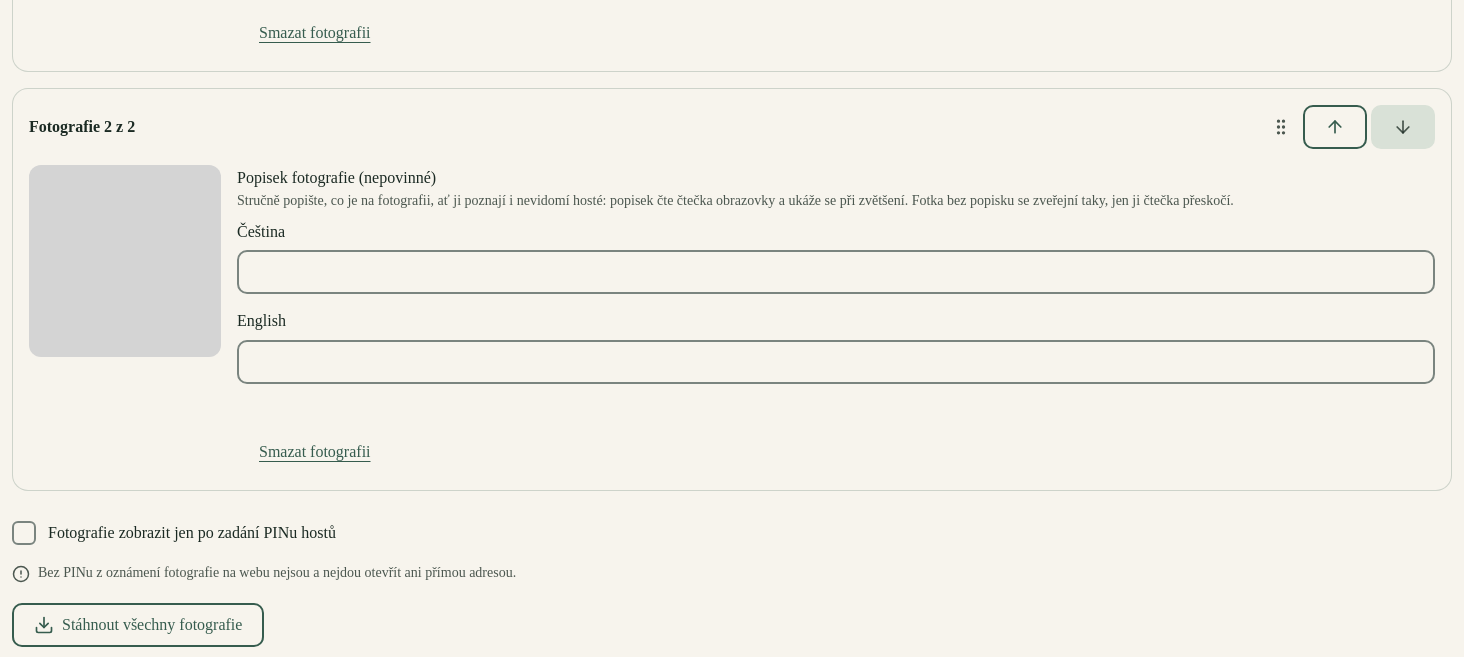
PhotosPanel › smazání se potvrzuje druhým krokem, Zrušit nic nesmaže; po smazání se oznámí a zmizí
(page scrolled)
Step 1. Click the button with aria-label "Smazat fotografii 2" → [315, 452], box [237,430,392,474]
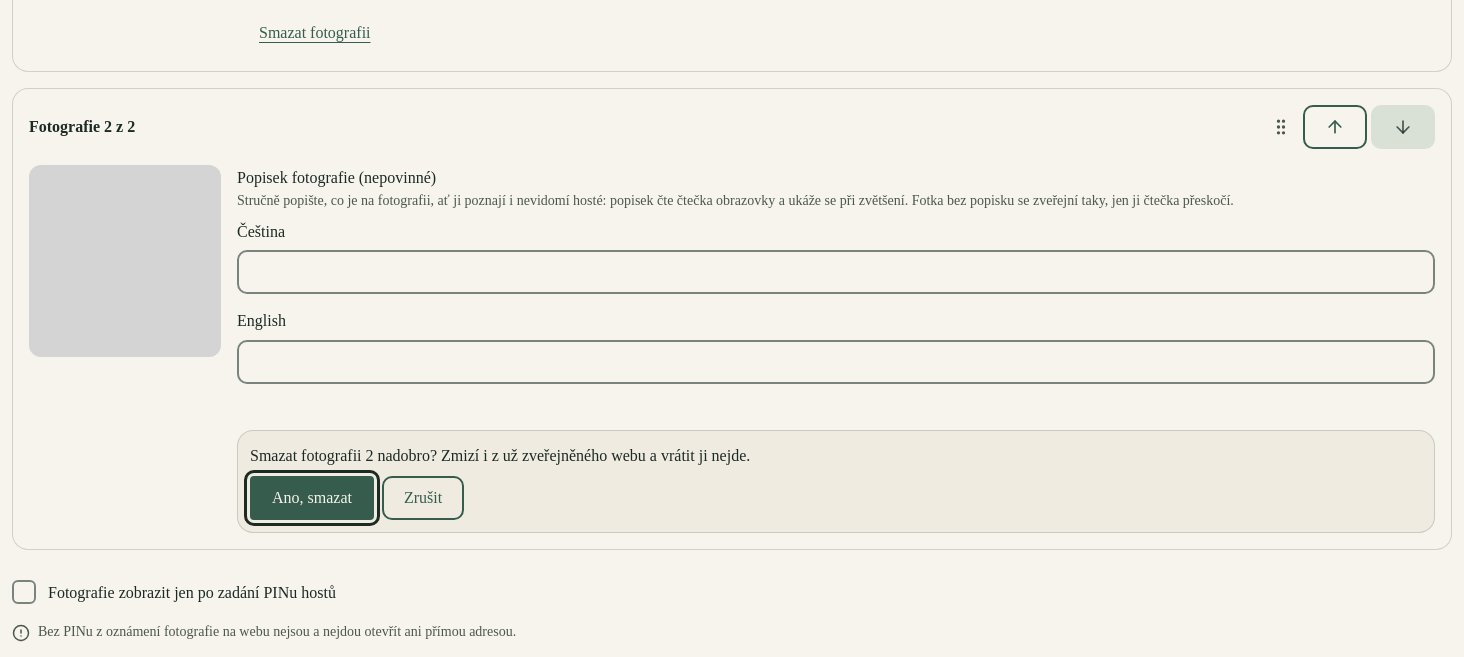
Result: the element "Smazat fotografii 2 nadobro" is shown at [237,430,1435,533]
Result: the text "Zmizí i z už zveřejněného webu" is shown at [250,447,750,464]
Step 2. Click the button "Zrušit" → [423, 498], box [382,476,464,520]
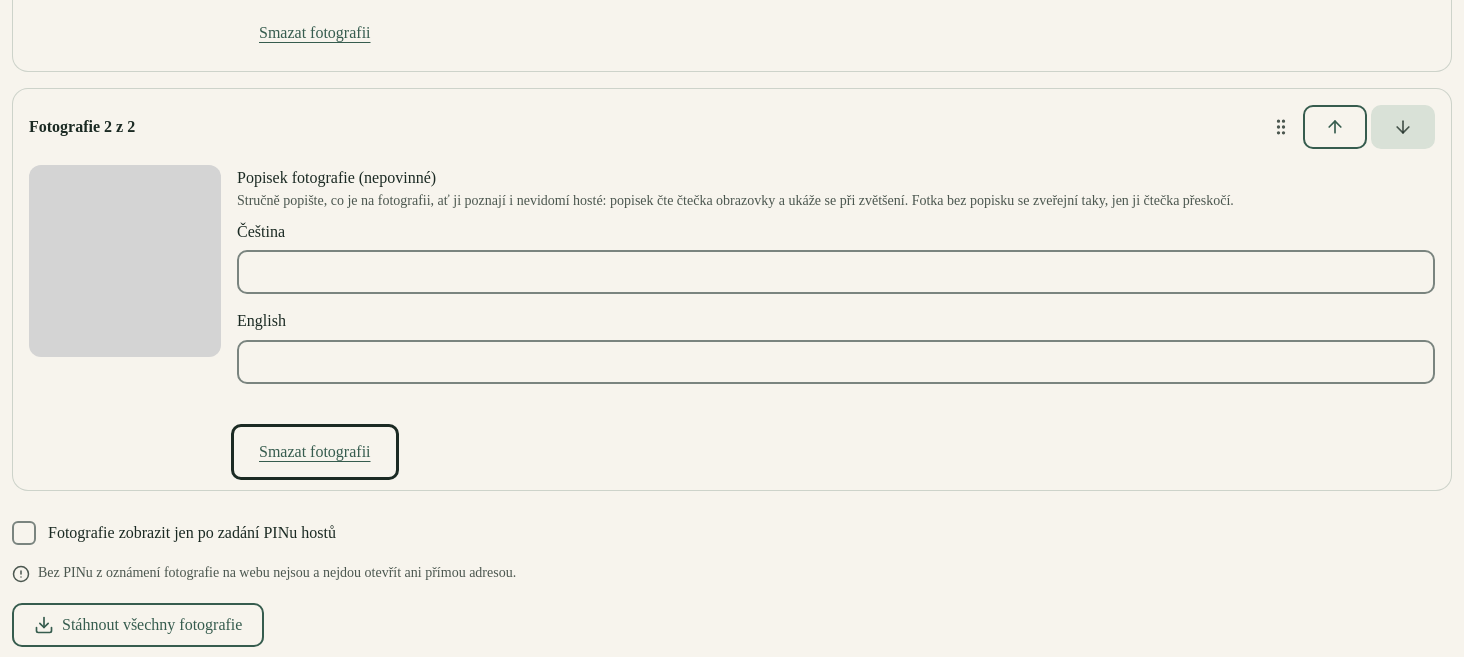
Step 3. Click the button with aria-label "Smazat fotografii 2" → [315, 452], box [237,430,392,474]
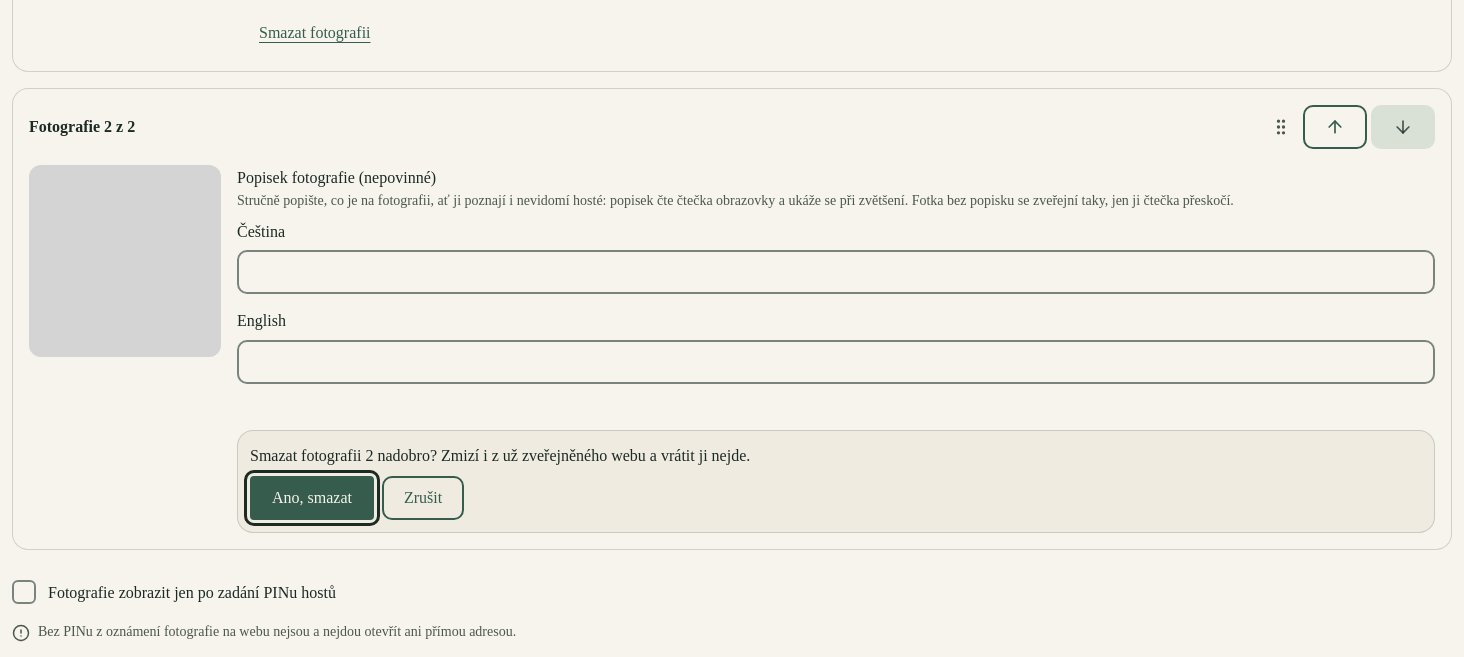
Step 4. Click the button "Ano, smazat" → [312, 498], box [250,476,374,520]
(page scrolled)
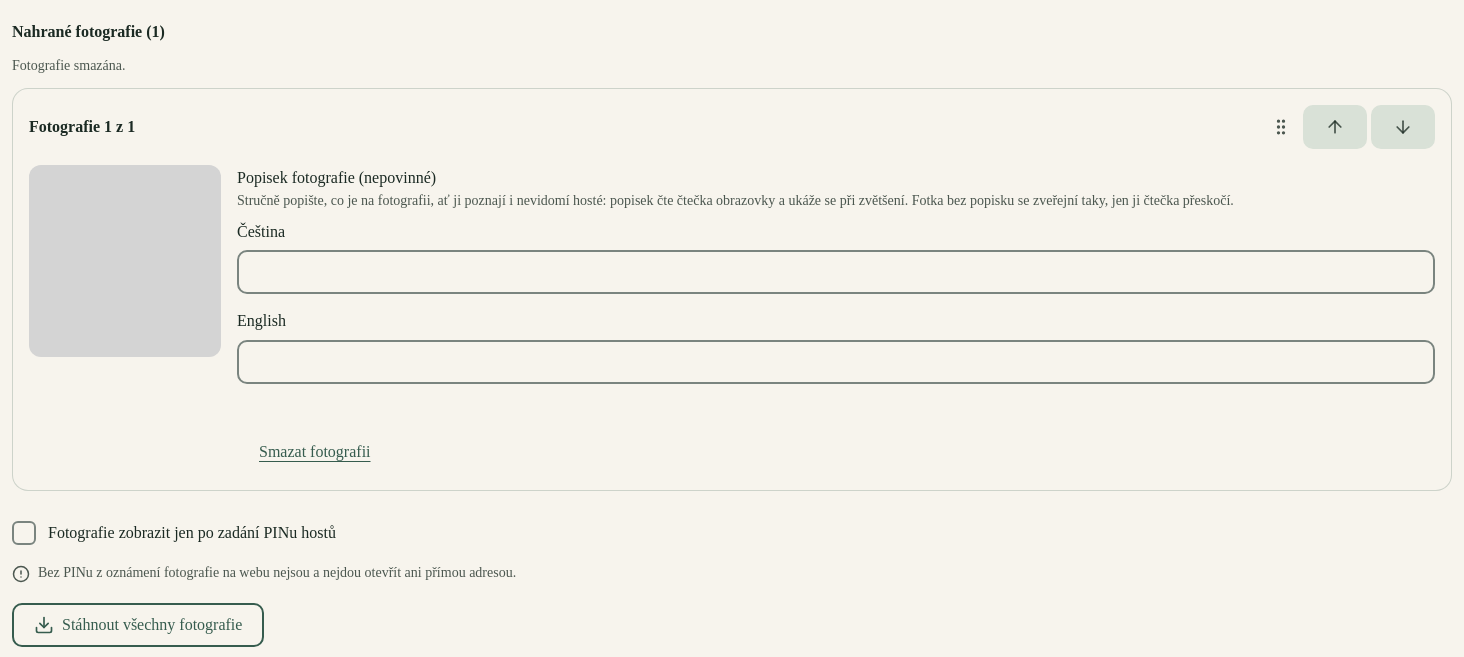
Result: the text "Fotografie smazána." is shown at [12,58,126,73]
Result: the heading "Fotografie 2 z 2" is gone
Result: the heading "Nahrané fotografie (1)" is shown at [12,23,165,40]
